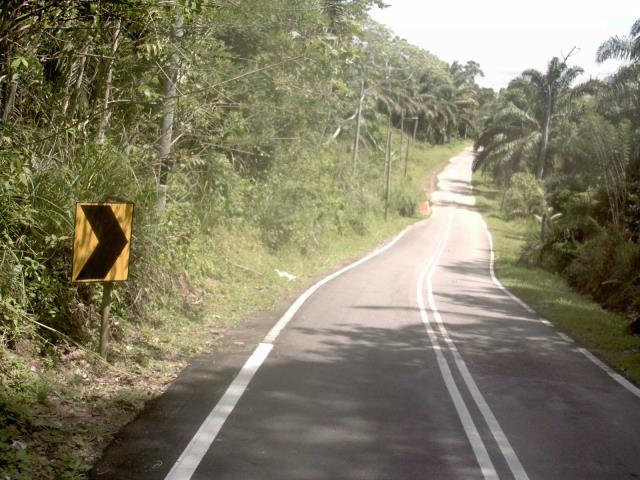traffic_sign: (61, 190, 143, 295)
